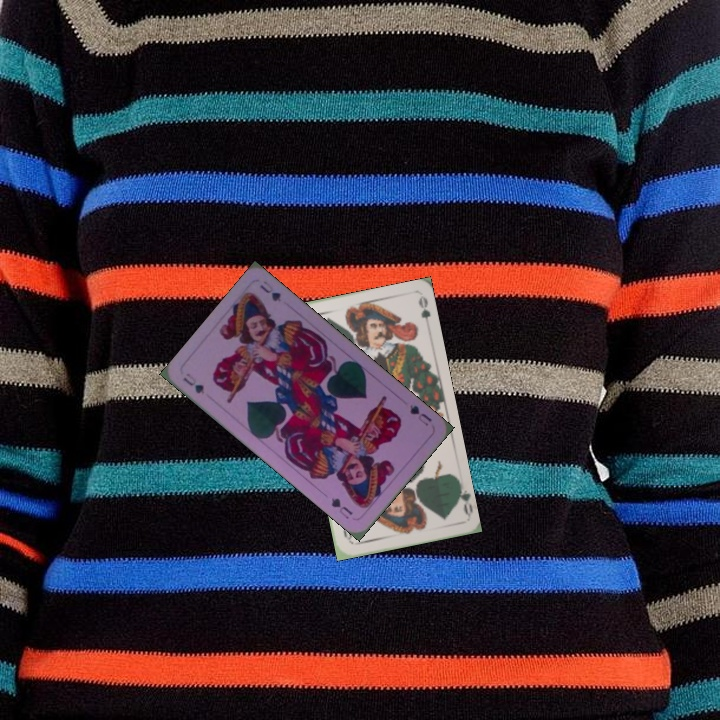GO: (452, 478, 474, 518)
GU: (405, 400, 435, 429), (179, 369, 207, 397)
